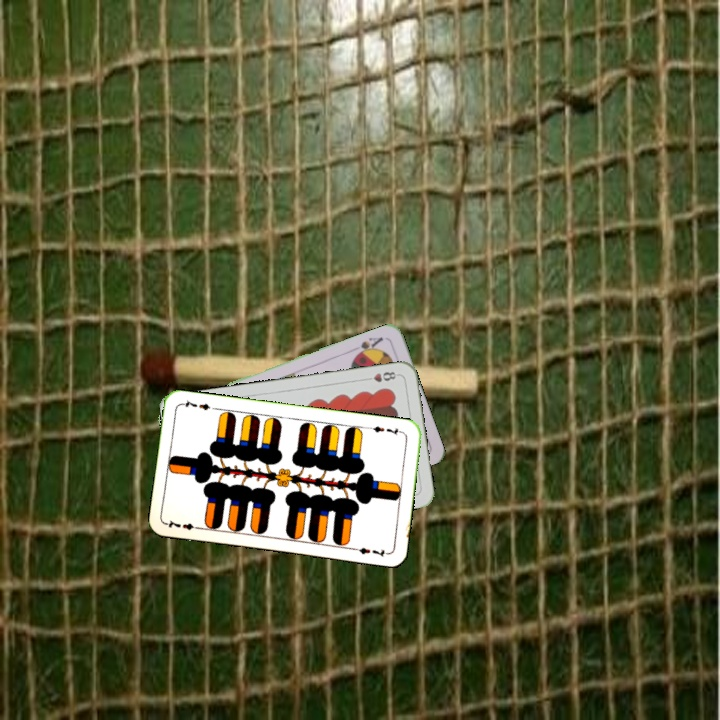E7: (163, 516, 204, 533), (365, 422, 406, 437)
H8: (361, 368, 401, 385)
SA: (351, 333, 386, 359)
